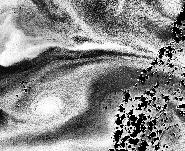CE: (9, 69, 70, 125)
